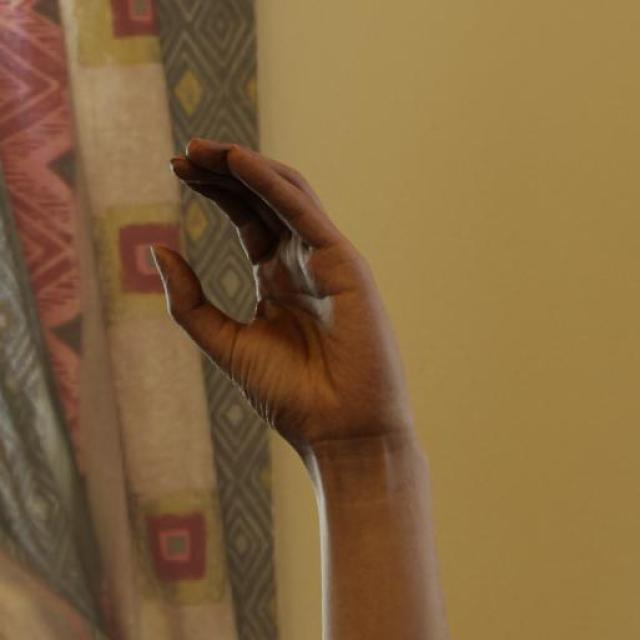C: (146, 135, 433, 475)
